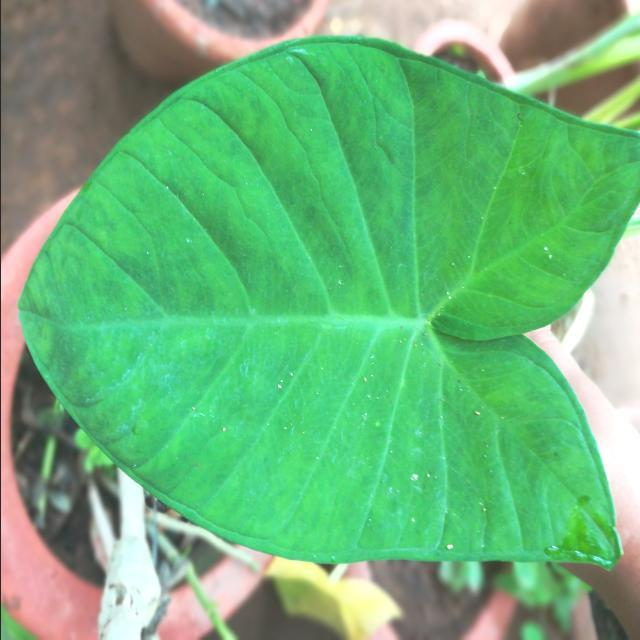leaf: (16, 32, 639, 568)
